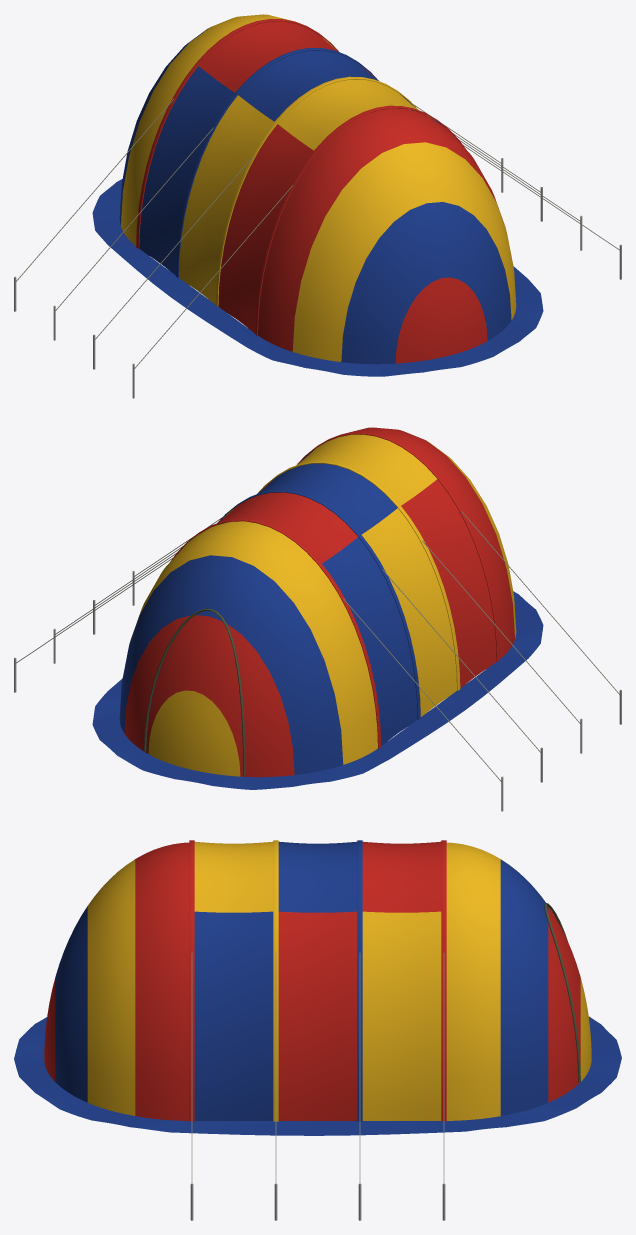
Rendered from endurance-deployed.glb.
The picture shows the model from 3 angles, top to bottom: view 1: azimuth 30°, elevation 25°; view 2: azimuth 150°, elevation 25°; view 3: azimuth 270°, elevation 25°; orthographic projection. The views are drawn at different scales.
Parts seen in each view (by area): view 1: ENDURANCE_shelter; view 2: ENDURANCE_shelter; view 3: ENDURANCE_shelter.
Boxes of the visible parts, x1,y1,x2,y2 form: ENDURANCE_shelter: (14,14,621,398); ENDURANCE_shelter: (14,427,621,811); ENDURANCE_shelter: (14,840,621,1220).
Size of the model in its own units: 5.42 by 2.44 by 5.49.
